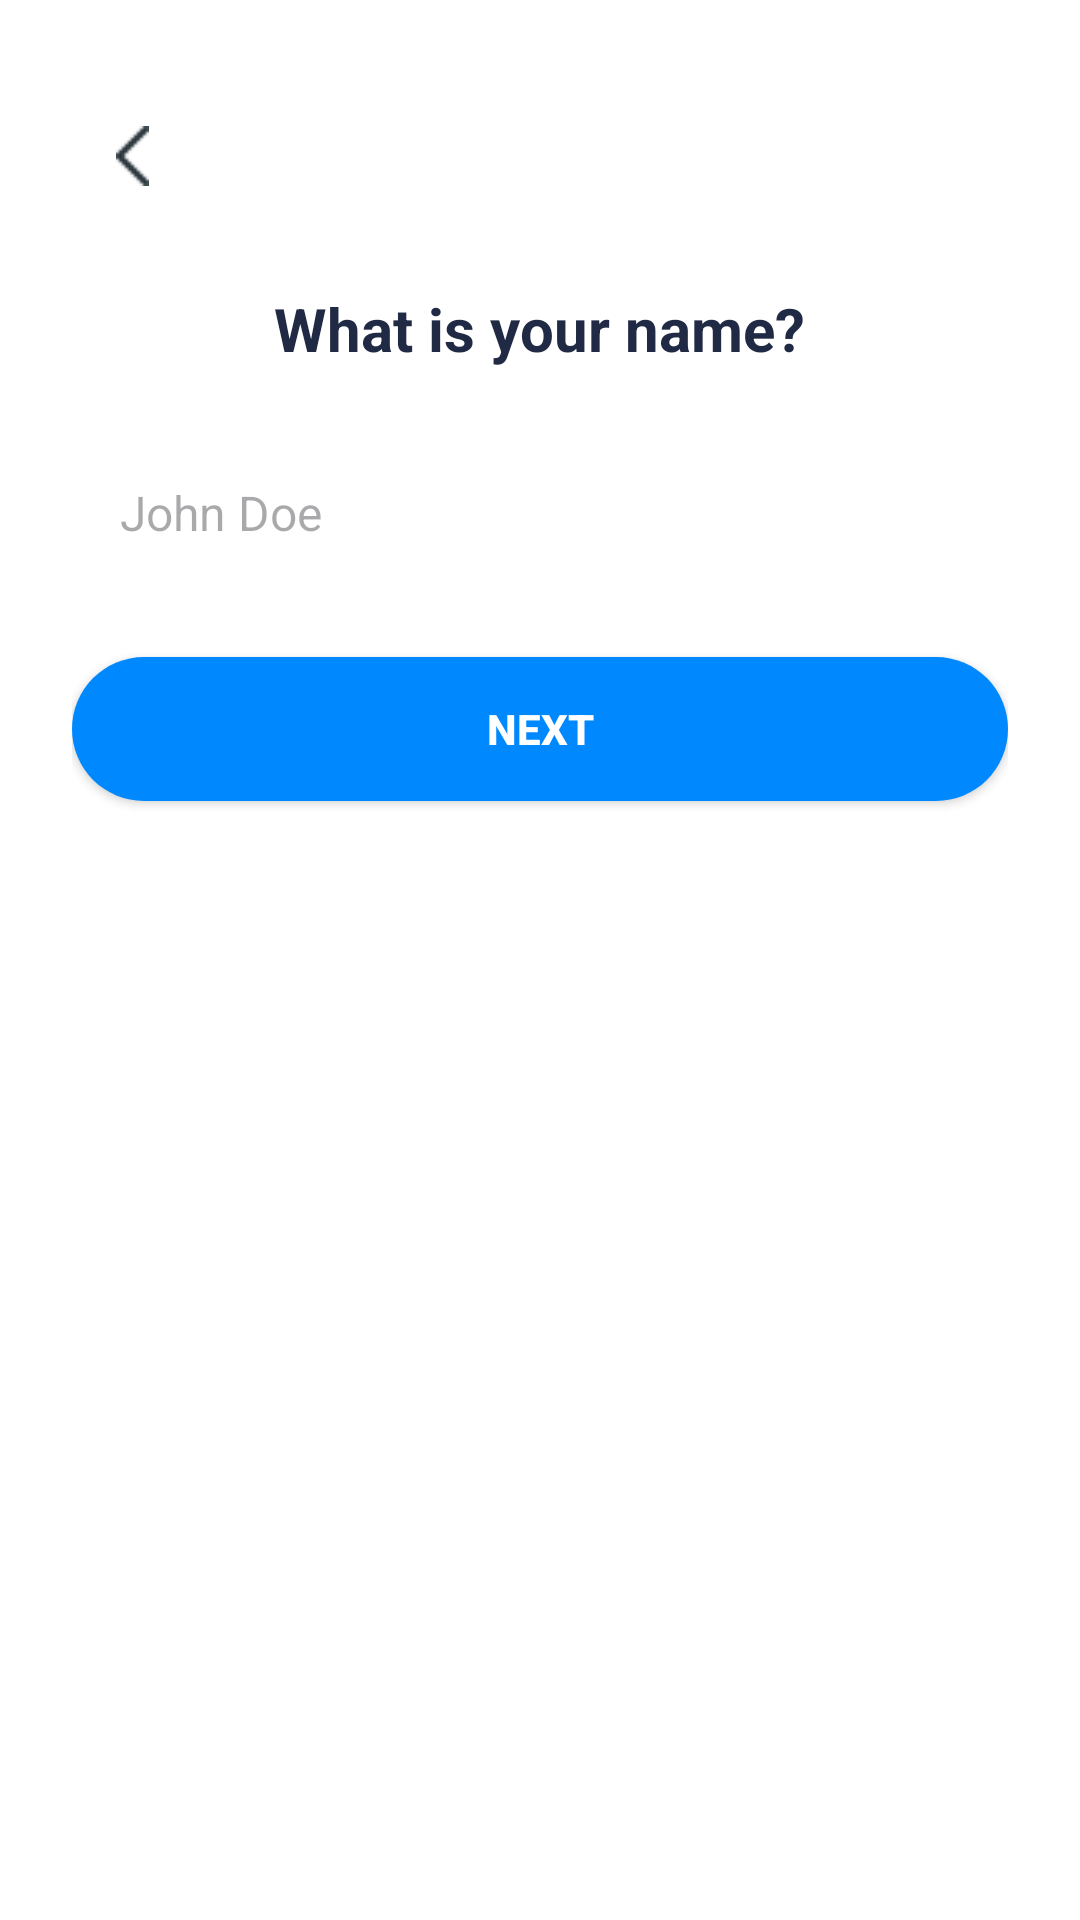

Named icons in this screenshot (1080 × 1920) and their centers, (x=x, y=y):
Back: (x=132, y=156)
